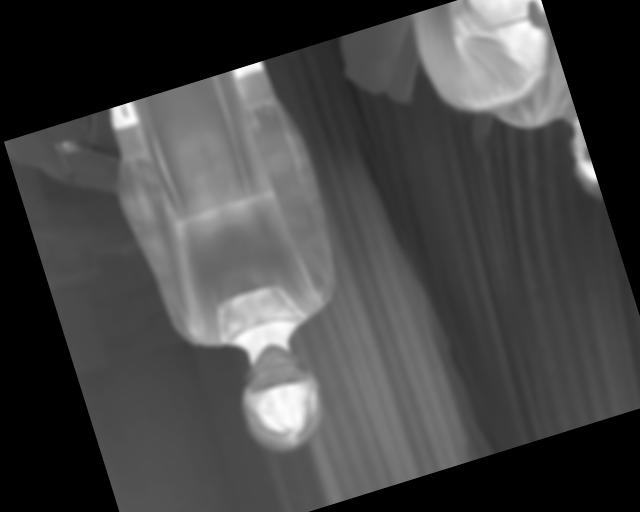face: (221, 331, 337, 463)
